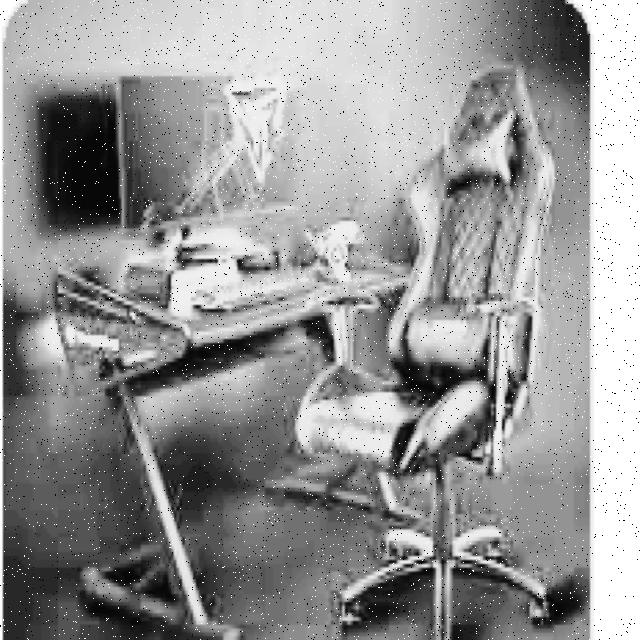table: (50, 225, 411, 640)
